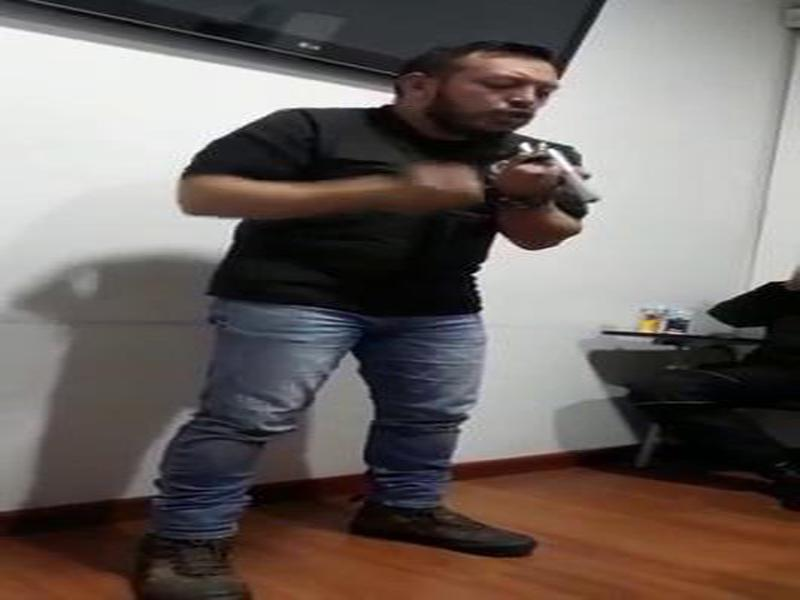Revolver: (463, 124, 627, 254)
